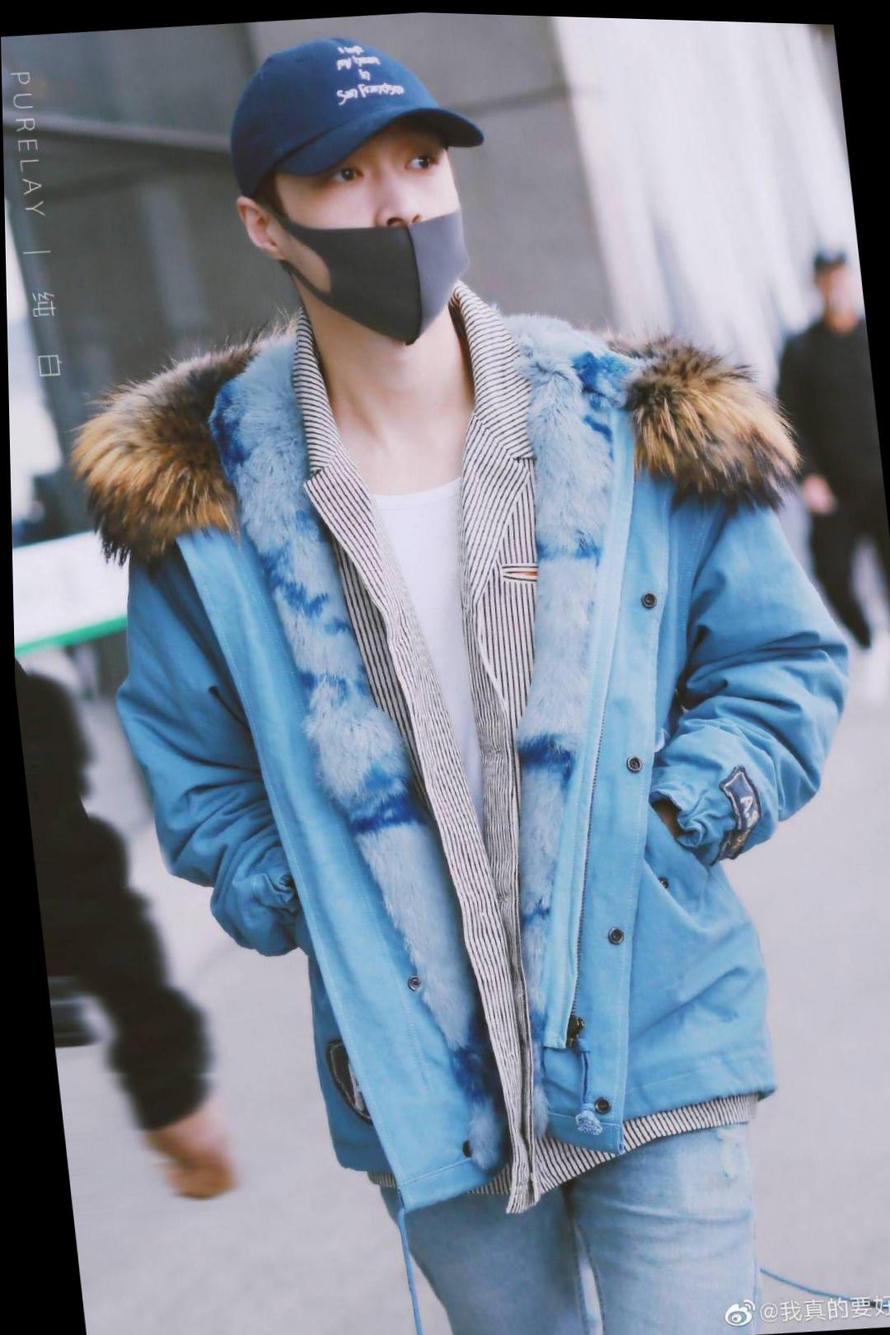WRONG: (281, 110, 477, 341)
